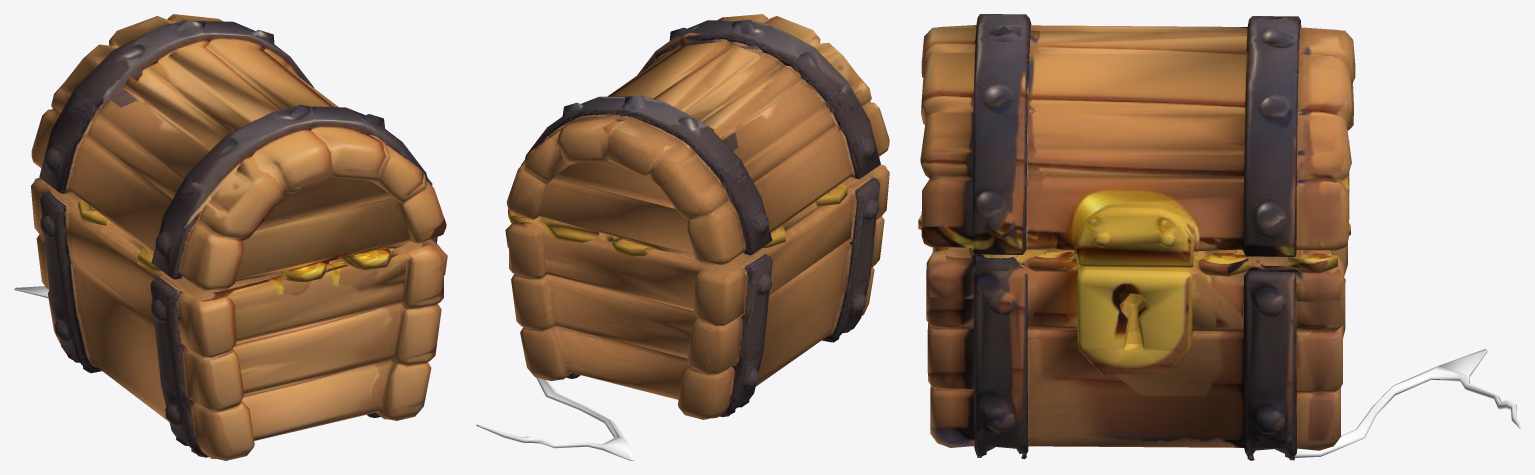
The model's file is coffre-jeu-TS6VSW4D.glb.
The picture shows the model from 3 angles, left to right: view 1: azimuth 30°, elevation 25°; view 2: azimuth 150°, elevation 25°; view 3: azimuth 270°, elevation 25°; orthographic projection. The views are drawn at different scales.
Parts seen in each view (by area): view 1: coffre; view 2: coffre; view 3: coffre.
Part boxes in pixels (x1,y1,x2,y2): coffre: [14, 14, 447, 460]; coffre: [476, 14, 889, 460]; coffre: [918, 14, 1520, 460].
Bounding box in the file's own units: 0.7385 × 0.8 × 1.15.
Materials: 1 (1 with a texture image).
